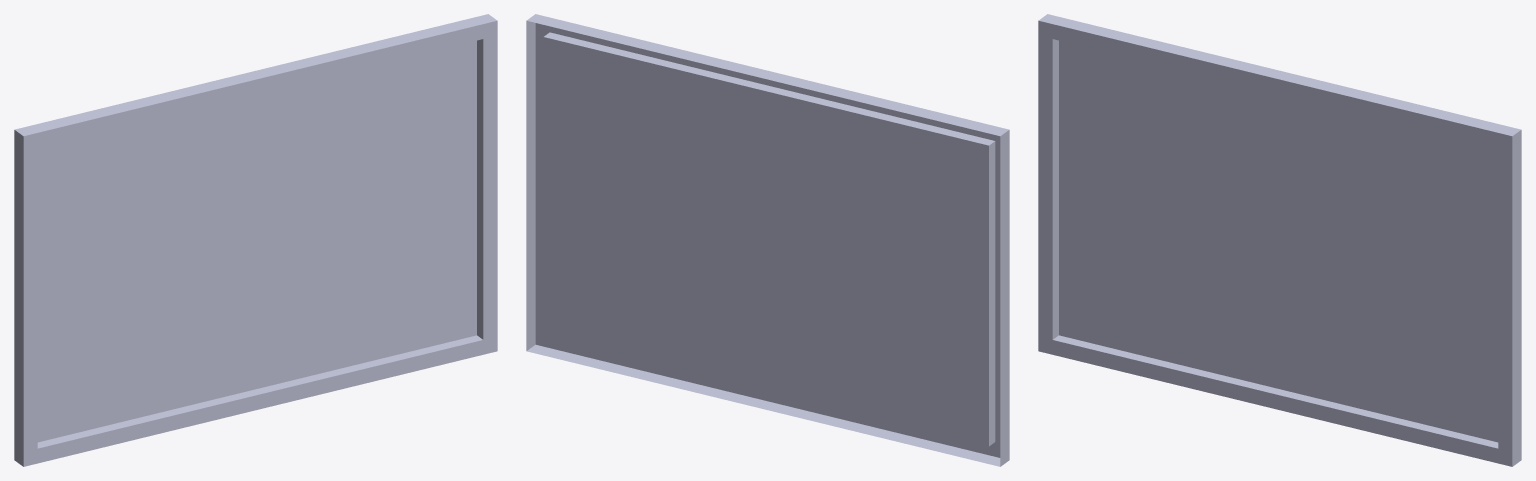
File: Cartel.fbx
The picture shows the model from 3 angles, left to right: view 1: azimuth 30°, elevation 25°; view 2: azimuth 150°, elevation 25°; view 3: azimuth 330°, elevation 25°; orthographic projection.
Visible parts, largest first — view 1: Cartel; view 2: Cartel; view 3: Cartel.
Part boxes in pixels (x1,y1,x2,y2): Cartel: (14,14,497,466); Cartel: (526,14,1009,466); Cartel: (1038,14,1521,466).
Bounding box in the file's own units: 1.2 × 0.8 × 0.04.
